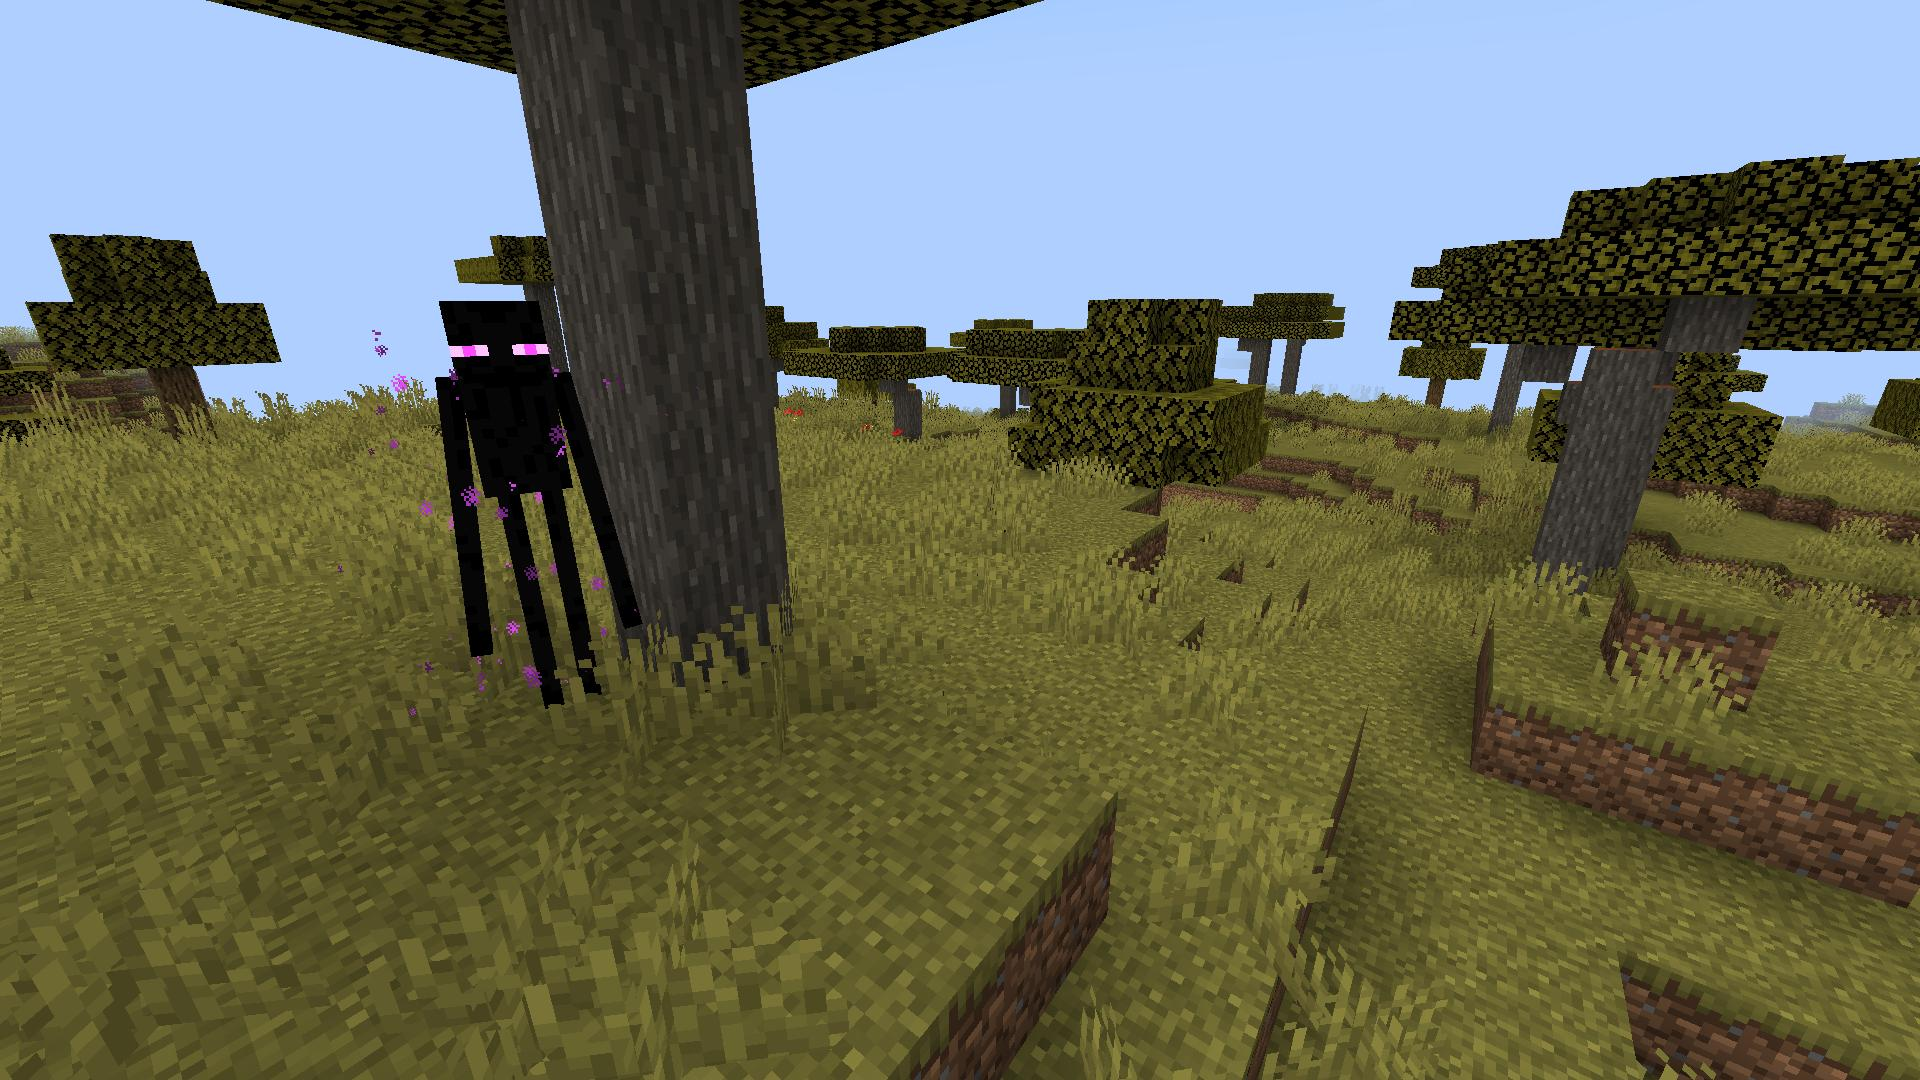enderman: (421, 285, 649, 724)
